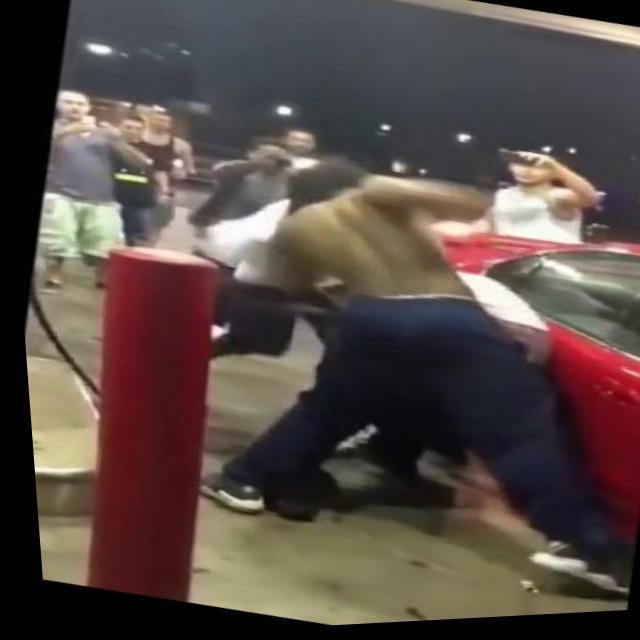fight: (147, 132, 640, 634)
